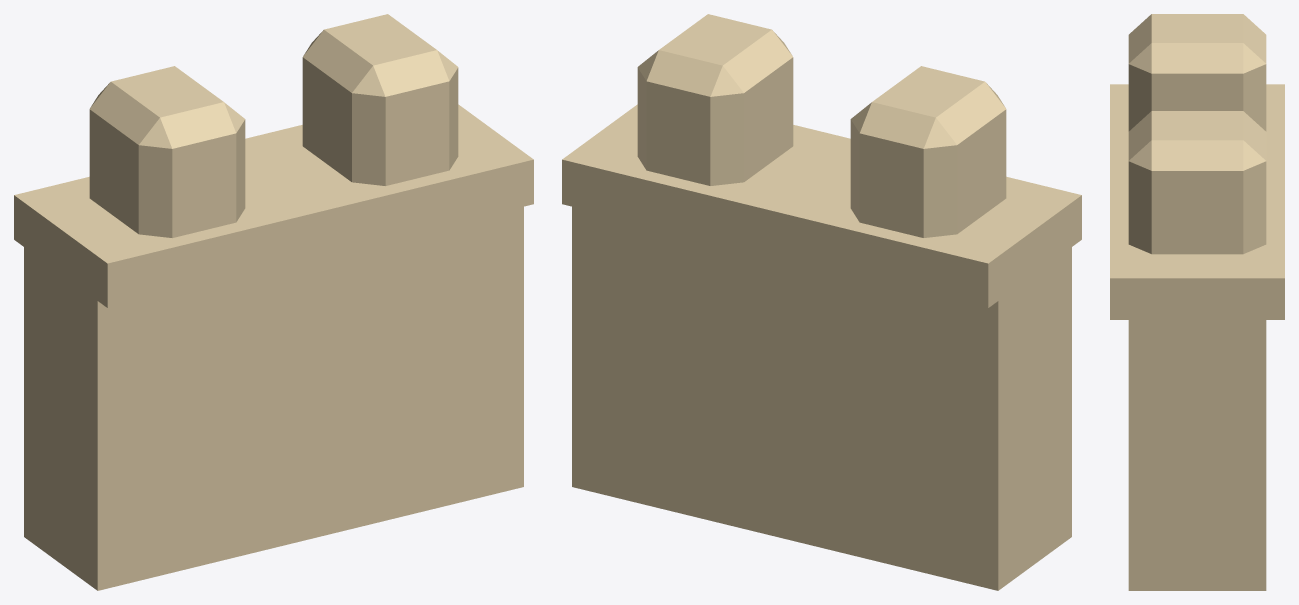
Rendered from wall_line_base.glb.
3 renders of one model, left to right at view 1: azimuth 30°, elevation 25°; view 2: azimuth 150°, elevation 25°; view 3: azimuth 270°, elevation 25°, orthographic. The views are drawn at different scales.
Visible parts, largest first — view 1: wall; view 2: wall; view 3: wall.
Boxes of the visible parts, left/top/right/bottom form: wall: left=14, top=14, right=533, bottom=590; wall: left=562, top=14, right=1081, bottom=590; wall: left=1110, top=14, right=1284, bottom=590.
Size of the model in its own units: 1 by 1 by 0.38.
